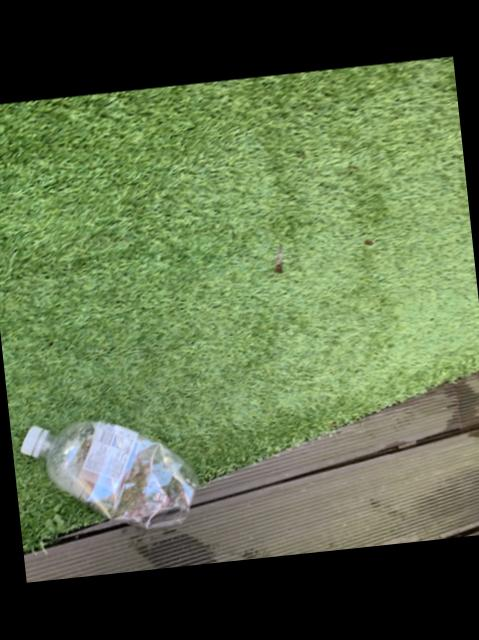plastic: (21, 421, 197, 527)
